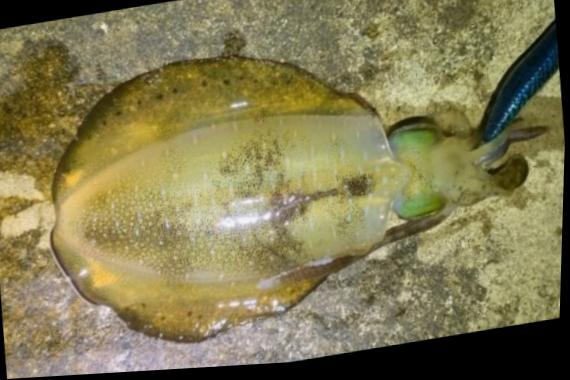Cephalopod: (53, 61, 546, 344)
